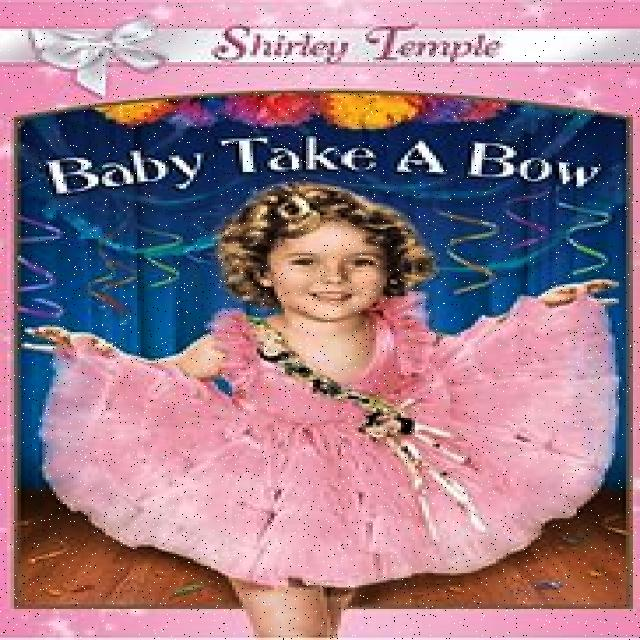movie-judul: (41, 134, 610, 199)
picture: (28, 184, 640, 640)
